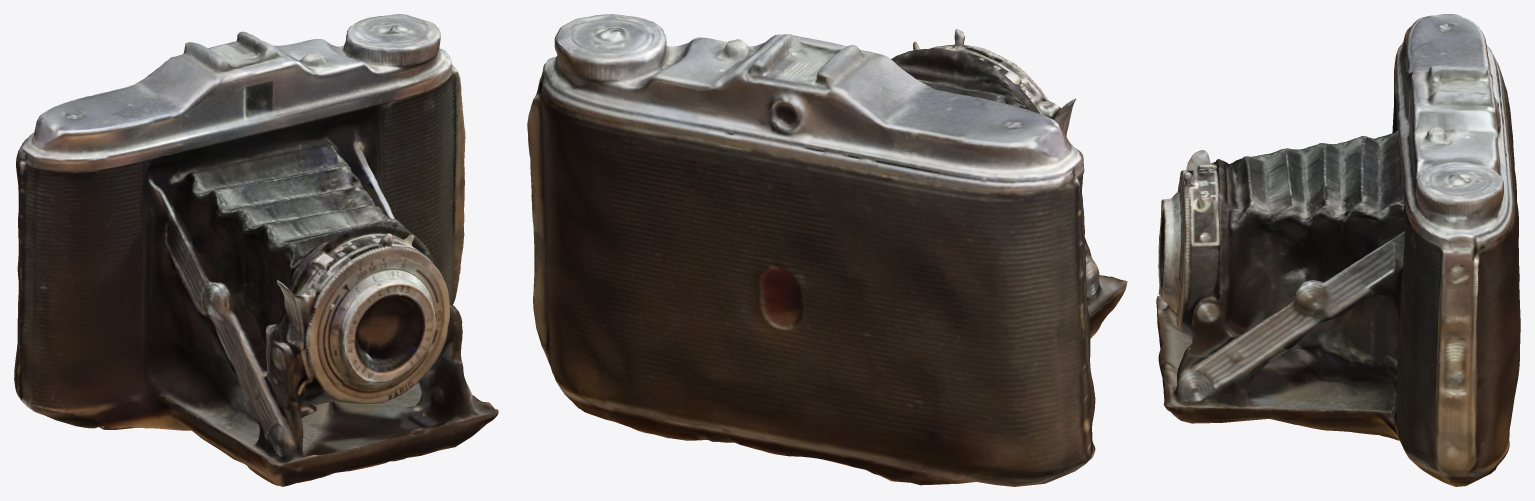
Rendered from camera_gt.glb.
3 renders of one model, left to right at view 1: azimuth 30°, elevation 25°; view 2: azimuth 150°, elevation 25°; view 3: azimuth 270°, elevation 25°, orthographic. The views are drawn at different scales.
Parts seen in each view (by area): view 1: nodes[0]; view 2: nodes[0]; view 3: nodes[0].
Boxes of the visible parts, x1=… form: nodes[0]: x1=14, y1=14, x2=498, y2=486; nodes[0]: x1=527, y1=14, x2=1127, y2=486; nodes[0]: x1=1156, y1=14, x2=1520, y2=486.
Size of the model in its own units: 0.5974 by 0.4323 by 0.4355.
1 material, 1 textured.
